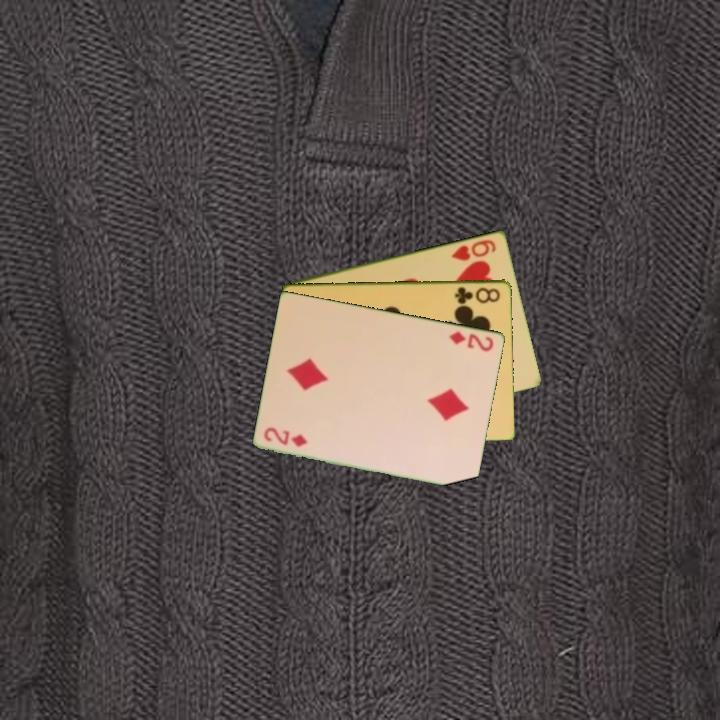2d: (446, 327, 497, 354), (261, 425, 311, 450)
6h: (448, 236, 499, 263)
8c: (452, 283, 503, 306)
